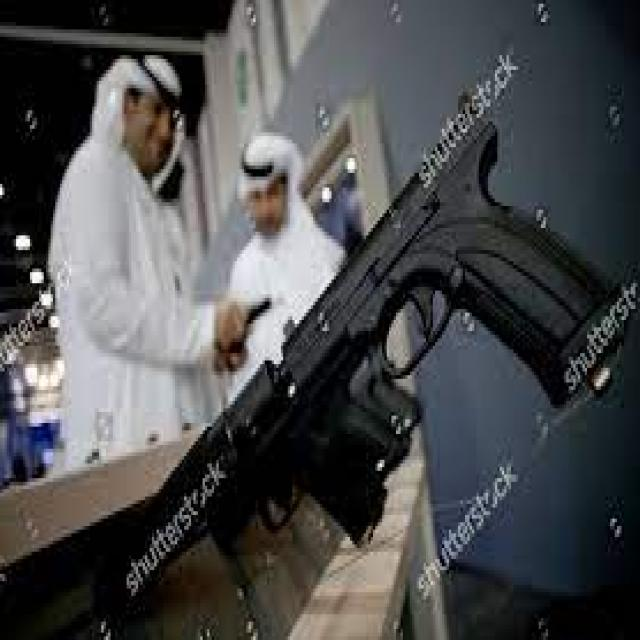Gun: (105, 98, 629, 525)
